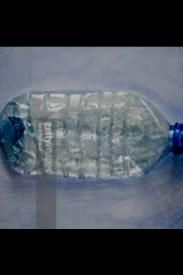Plastic: (0, 87, 182, 185)
